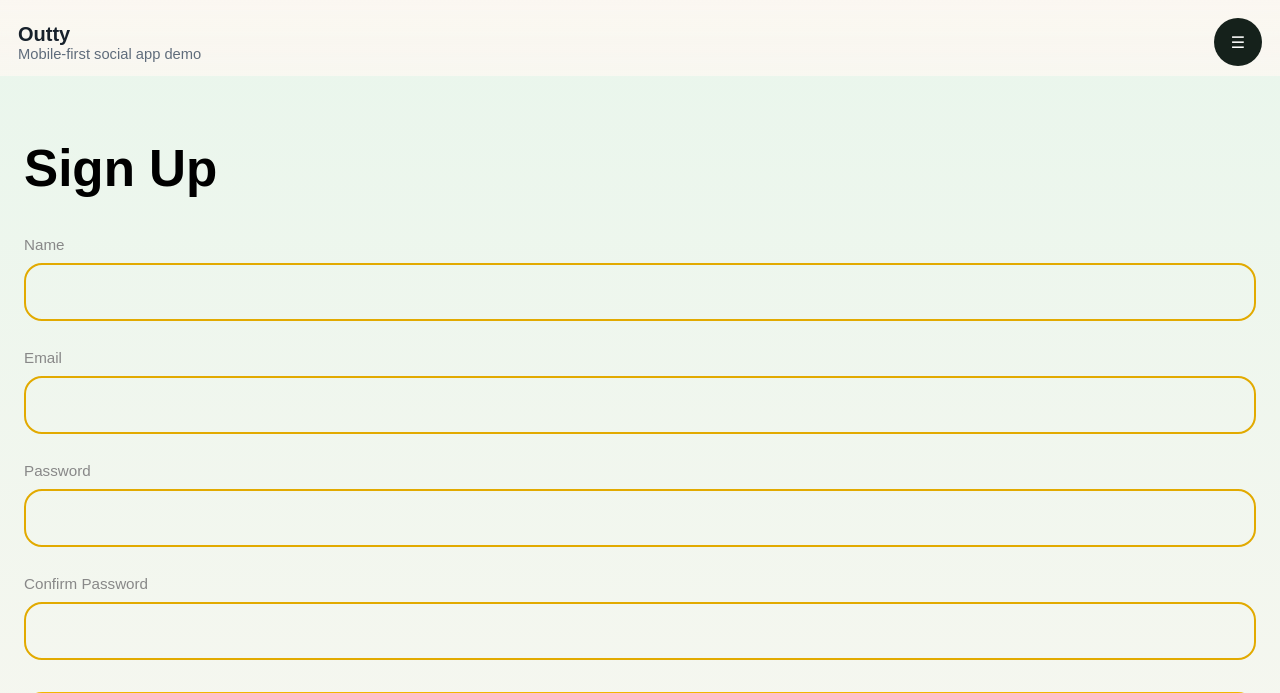
Scenario: Sign Up Feature (BDD) › Tests if having non-matching passwords returns the expected error message
Note: The user fills out the form but provides different passwords in the password fields
Type "Gilberto" into the field labelled "Name" at point(640, 292), box top-left (24, 263), bottom-right (1256, 321)
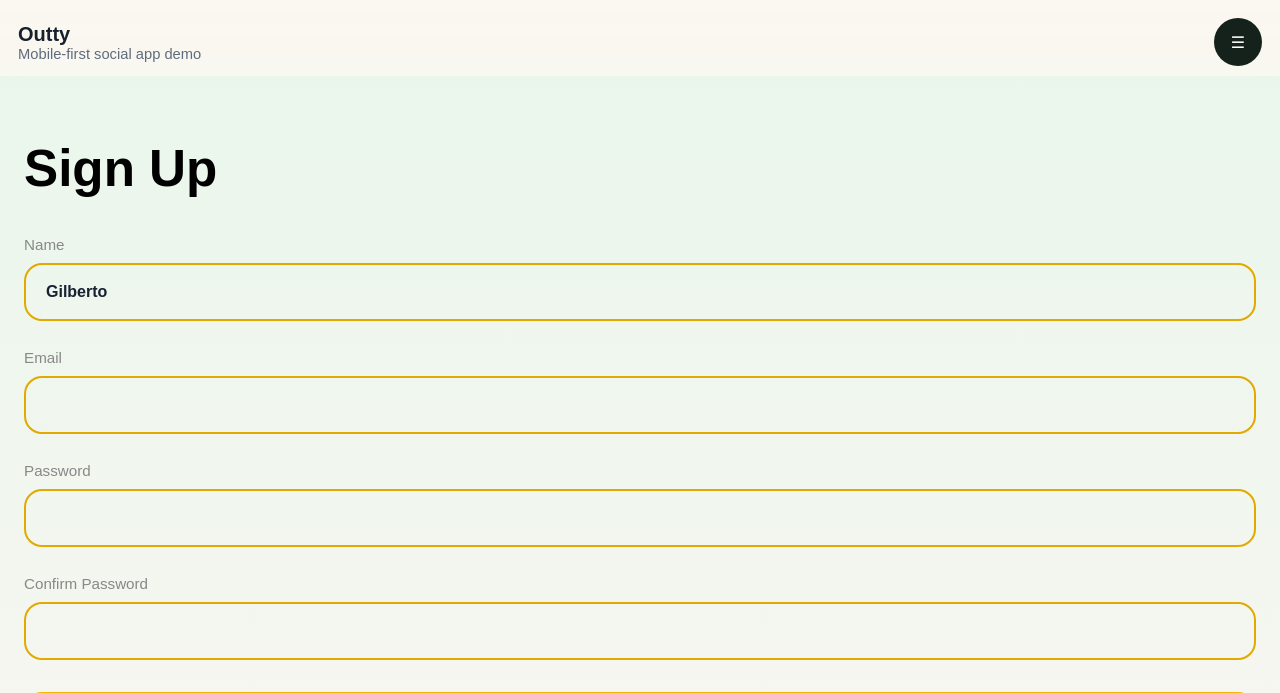
Type "test@kennesaw.edu" into the field labelled "Email" at point(640, 405), box top-left (24, 376), bottom-right (1256, 434)
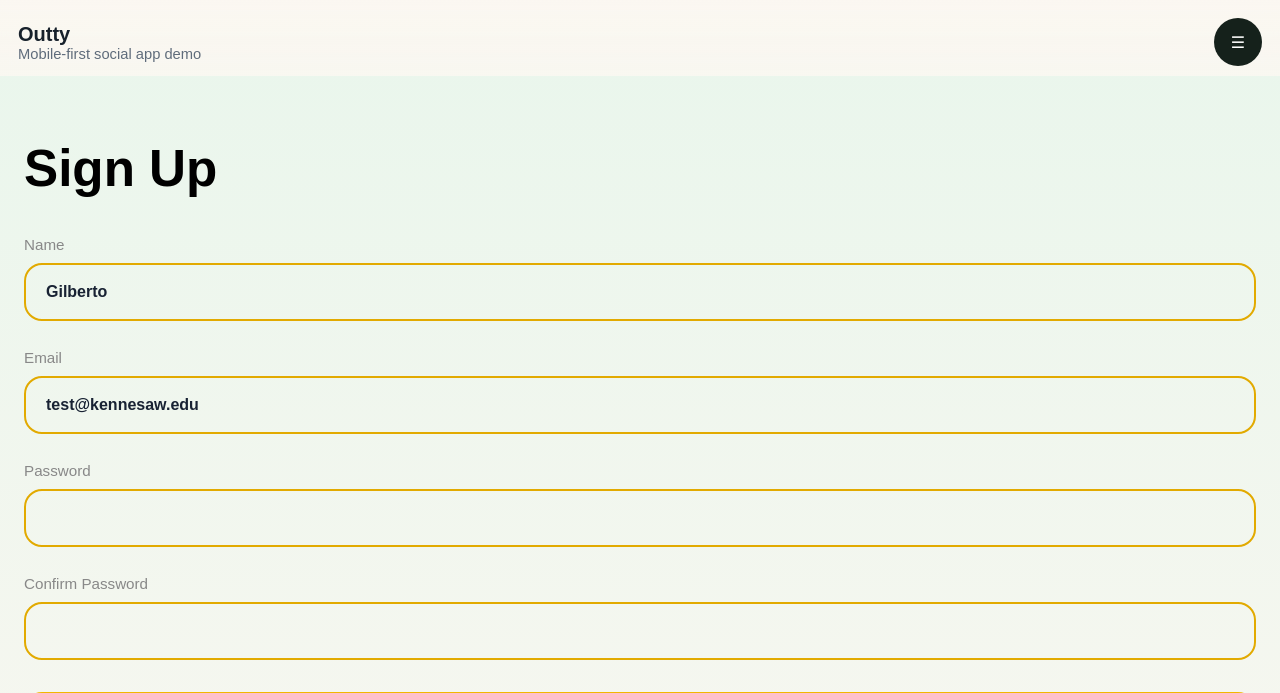
Type "Password123" into the password field labelled "Password" at point(640, 518), box top-left (24, 489), bottom-right (1256, 547)
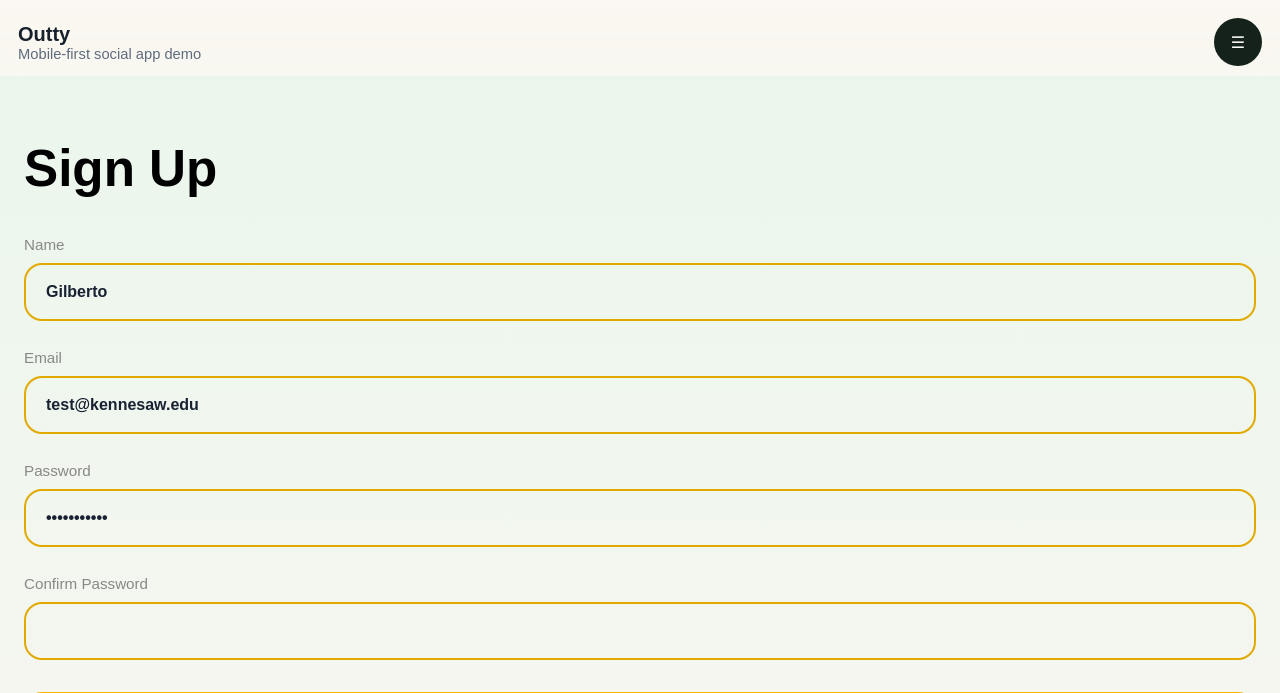
Type "Password456" into the password field labelled "Confirm Password" at point(640, 631), box top-left (24, 602), bottom-right (1256, 660)
(page scrolled)
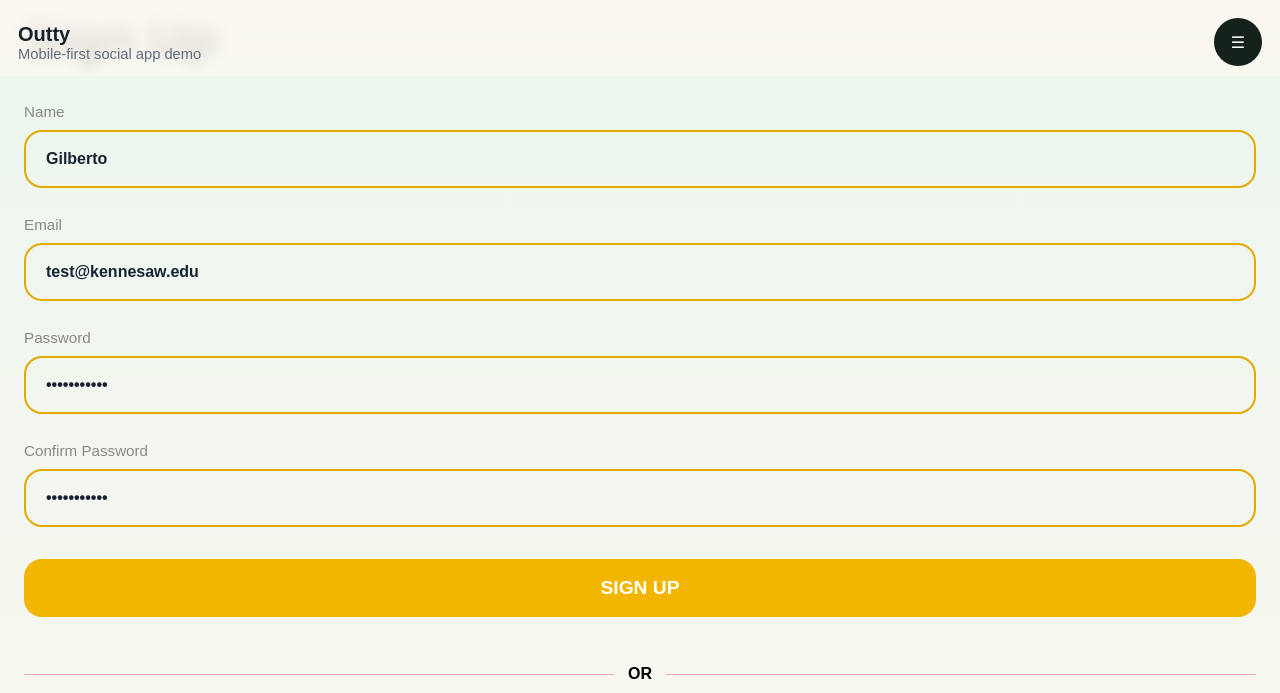
Note: Submit the form directly to trigger the handleSubmit function
Submit the form
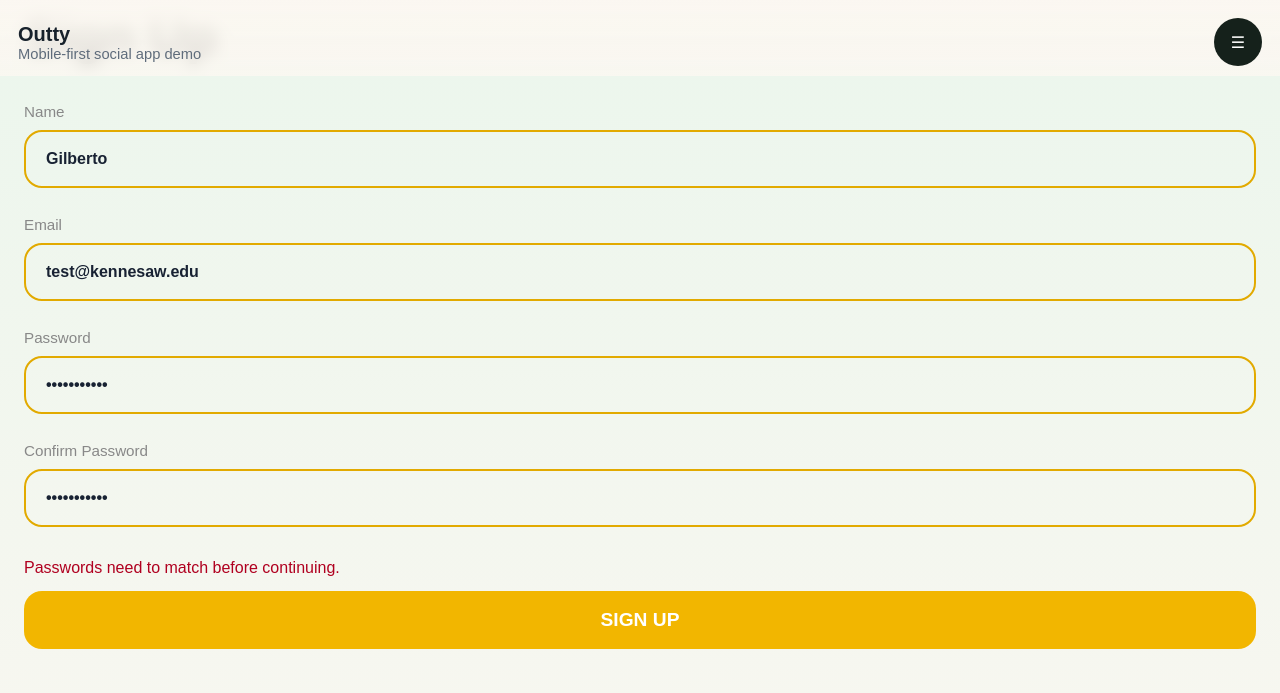
Expected: the text "Passwords need to match before continuing." is shown, top-left (24, 559), bottom-right (340, 576)
